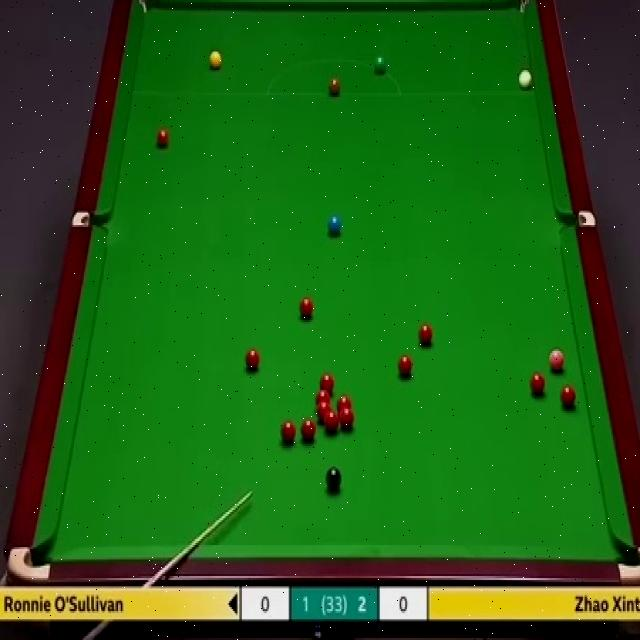black-ball: (325, 466, 342, 489)
blue-ball: (329, 215, 342, 235)
brown-ball: (328, 76, 340, 96)
green-ball: (375, 53, 386, 74)
pink-ball: (548, 348, 566, 372)
red-ball: (280, 419, 297, 444), (559, 384, 576, 408), (530, 369, 545, 396), (244, 346, 260, 369), (417, 322, 433, 345), (299, 296, 314, 320), (340, 406, 355, 430), (301, 418, 316, 442), (397, 354, 412, 377), (319, 372, 334, 394), (325, 410, 339, 433), (317, 401, 331, 422), (314, 389, 330, 407), (336, 394, 353, 409), (158, 127, 168, 148)
white-ball: (518, 68, 531, 90)
yellow-ball: (209, 50, 221, 72)
